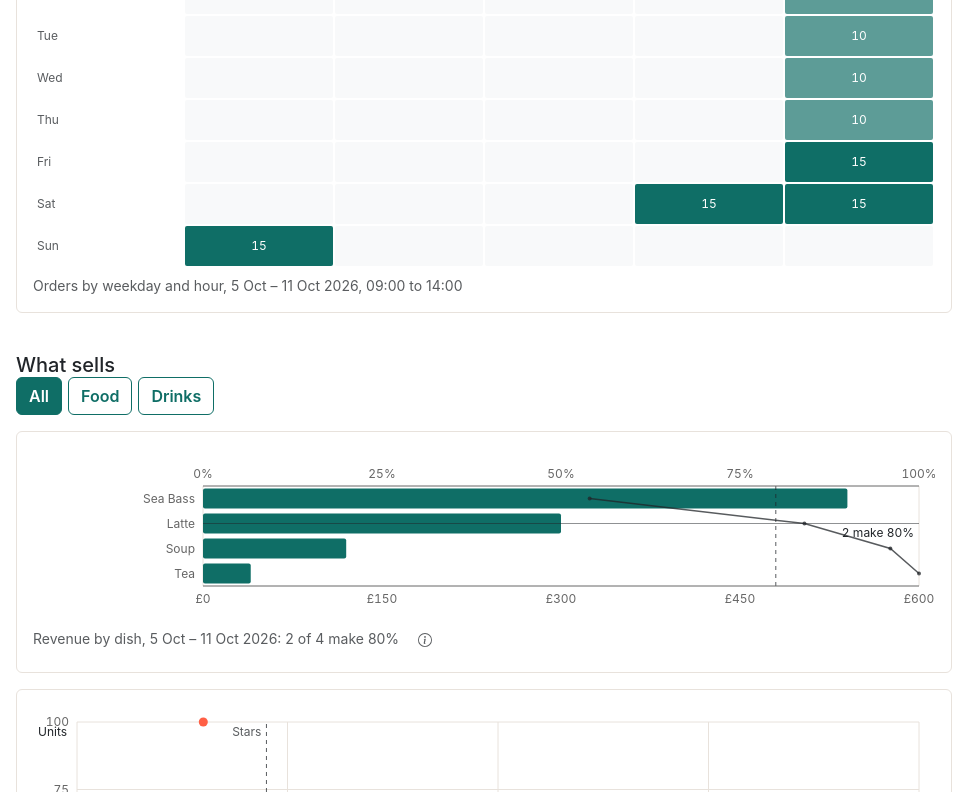
Test: the sections of the sales page › drops a category filter when a period has one category alone
The width and height of the screenshot is (969, 792).
(page scrolled)
Click the button "Drinks": (176, 396) [138, 377, 214, 415]
(page scrolled)
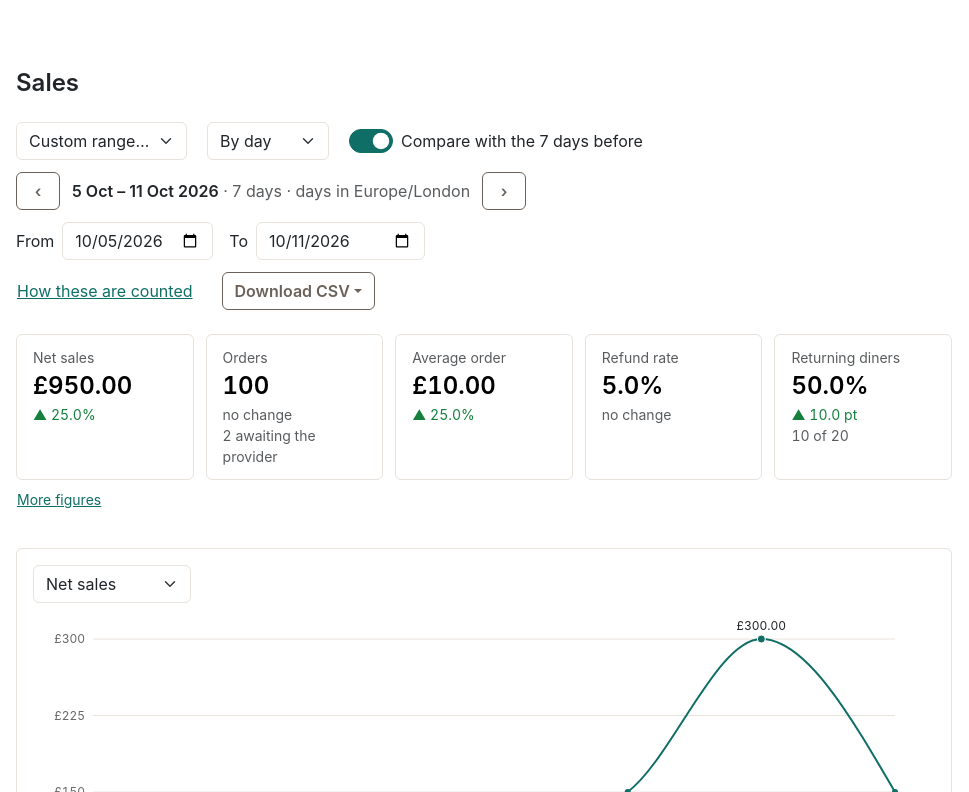
Click the button named "Previous 7 days": (38, 191) [16, 172, 60, 210]
(page scrolled)
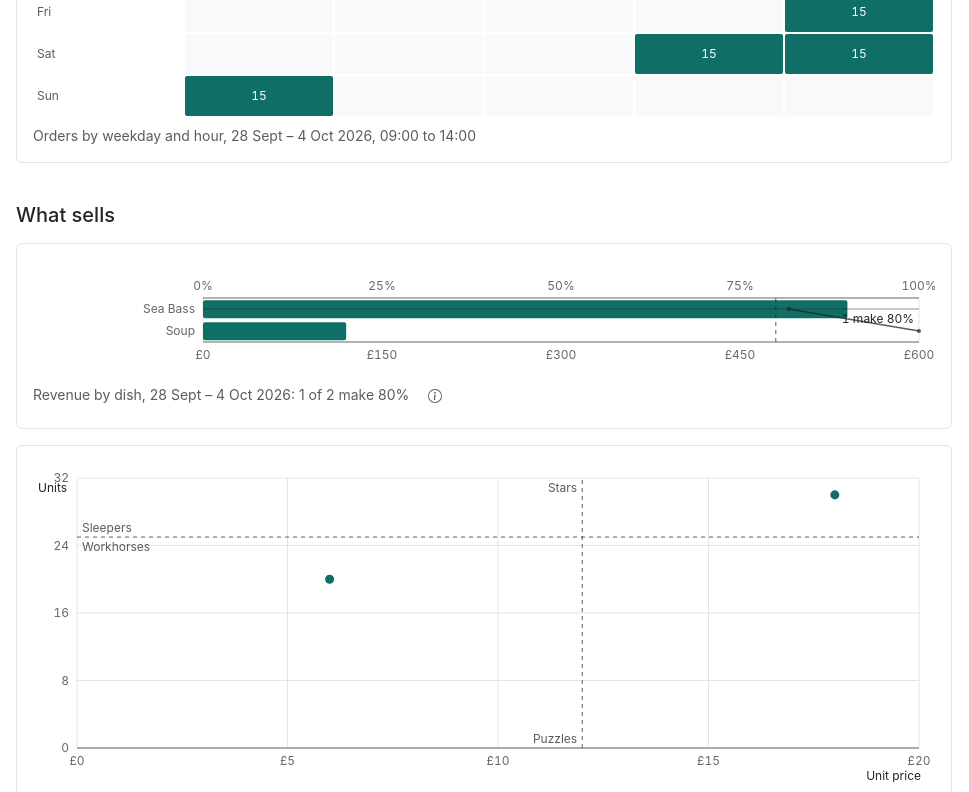
expect the text "Revenue by dish, 28 Sept – 4 Oct 2026: 1 of 2 make 80%" is shown: met, box [33, 380, 457, 412]
